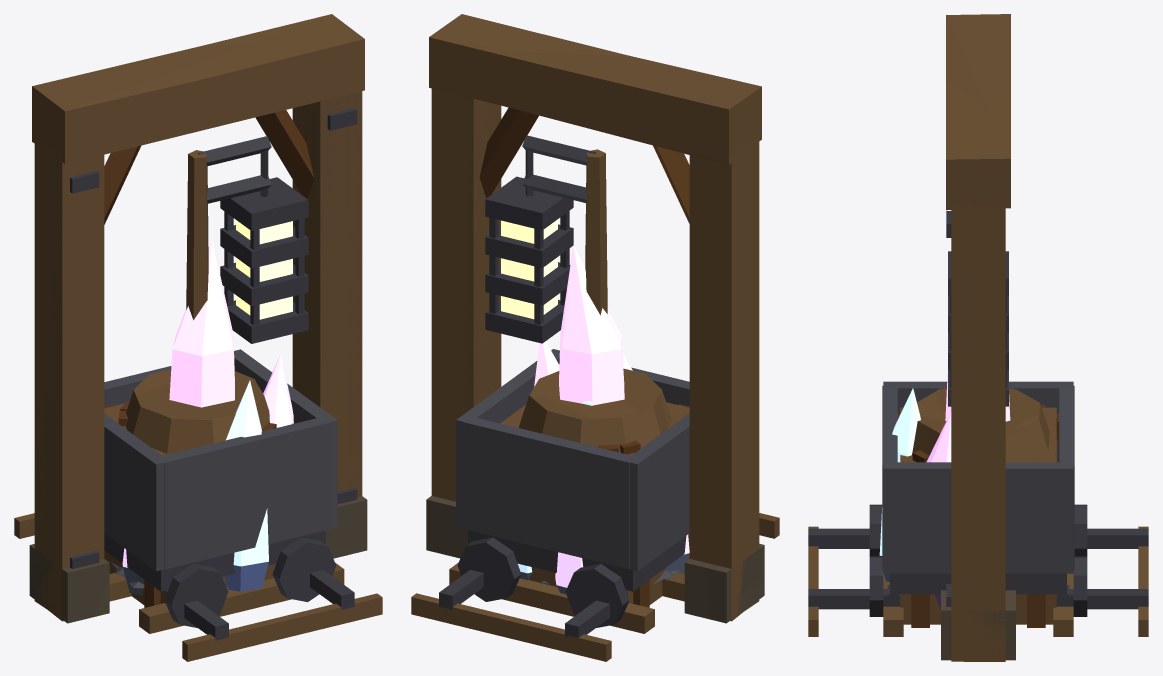
File: mines.glb
The picture shows the model from 3 angles, left to right: view 1: azimuth 30°, elevation 25°; view 2: azimuth 150°, elevation 25°; view 3: azimuth 270°, elevation 25°; orthographic projection.
Visible parts, largest first — view 1: mines_support_frame_a, mines_support_frame_b, mines_ore_cart_a, mines_lantern_b, mines_rail_piece_a, mines_crystal_cluster_b, mines_lantern_a, mines_barrel_a, mines_barrel_b, mines_crystal_cluster_a, mines_crate_a; view 2: mines_support_frame_a, mines_ore_cart_a, mines_support_frame_b, mines_lantern_b, mines_rail_piece_a, mines_crystal_cluster_b, mines_lantern_a, mines_barrel_a, mines_crate_a, mines_barrel_b; view 3: mines_support_frame_a, mines_ore_cart_a, mines_support_frame_b, mines_rail_piece_a, mines_crate_a, mines_barrel_a, mines_crystal_cluster_a, mines_crystal_cluster_b, mines_barrel_b, mines_lantern_b, mines_lantern_a.
Boxes of the visible parts, box(x1,y1,x2,y2) form: mines_support_frame_a: box(29, 14, 367, 622); mines_support_frame_b: box(29, 43, 366, 623); mines_ore_cart_a: box(104, 349, 337, 627); mines_lantern_b: box(186, 136, 308, 320); mines_rail_piece_a: box(14, 513, 382, 661); mines_crystal_cluster_b: box(111, 240, 293, 595); mines_lantern_a: box(207, 175, 308, 343); mines_barrel_a: box(126, 370, 263, 449); mines_barrel_b: box(134, 369, 269, 453); mines_crystal_cluster_a: box(116, 380, 268, 591); mines_crate_a: box(104, 401, 293, 607); mines_support_frame_a: box(426, 14, 764, 622); mines_ore_cart_a: box(456, 349, 689, 627); mines_support_frame_b: box(426, 49, 764, 623); mines_lantern_b: box(485, 135, 607, 315); mines_rail_piece_a: box(411, 513, 779, 661); mines_crystal_cluster_b: box(534, 245, 689, 594); mines_lantern_a: box(485, 174, 586, 343); mines_barrel_a: box(519, 368, 668, 452); mines_crate_a: box(500, 402, 689, 607); mines_barrel_b: box(531, 369, 672, 425); mines_support_frame_a: box(941, 80, 1015, 661); mines_ore_cart_a: box(869, 381, 1087, 616); mines_support_frame_b: box(941, 14, 1015, 660); mines_rail_piece_a: box(808, 526, 1148, 636); mines_crate_a: box(897, 405, 1059, 627); mines_barrel_a: box(912, 388, 1057, 462); mines_crystal_cluster_a: box(879, 388, 920, 581); mines_crystal_cluster_b: box(926, 371, 1010, 610); mines_barrel_b: box(917, 388, 1038, 455); mines_lantern_b: box(948, 251, 1008, 369); mines_lantern_a: box(948, 295, 1008, 406).
Bounding box in the file's own units: 1 × 1.64 × 1.
